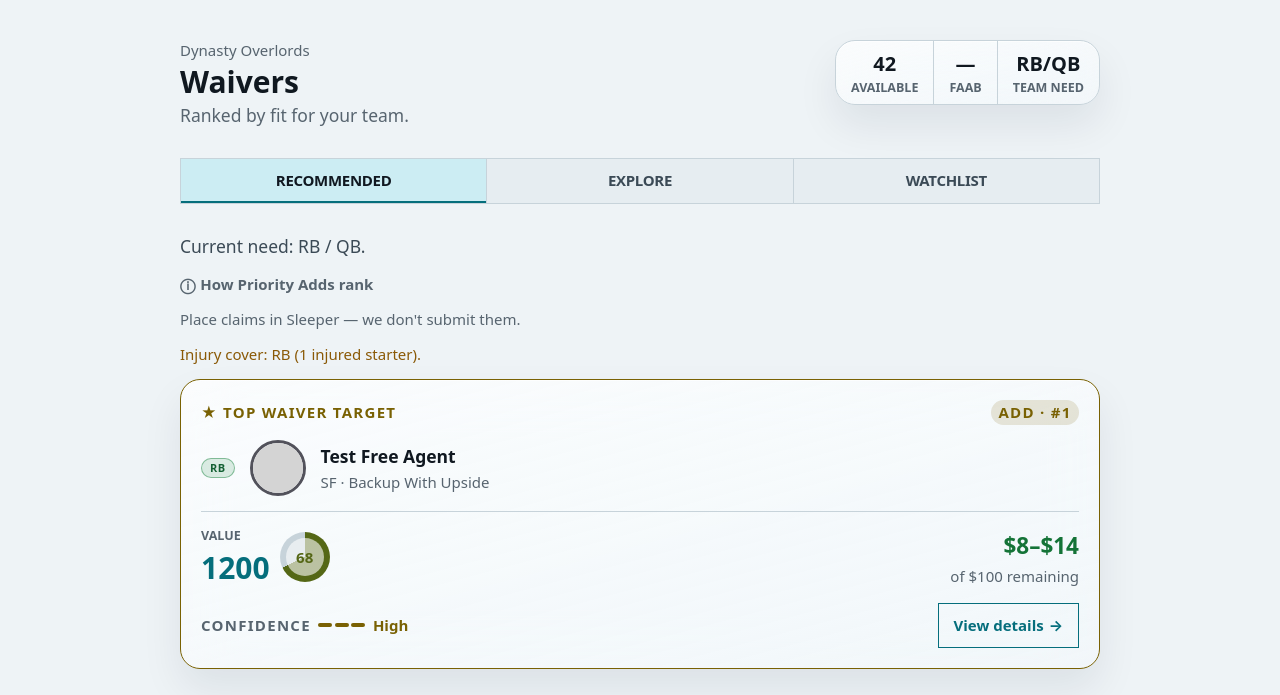
Test: WaiversContent › preserves the exact waiver-claim disclosure
Expected: the text "Place claims in Sleeper — we don't submit them." is shown, [180, 309, 520, 329]
Click the button "ⓘ How Priority Adds rank" at (277, 284), box [180, 274, 373, 294]
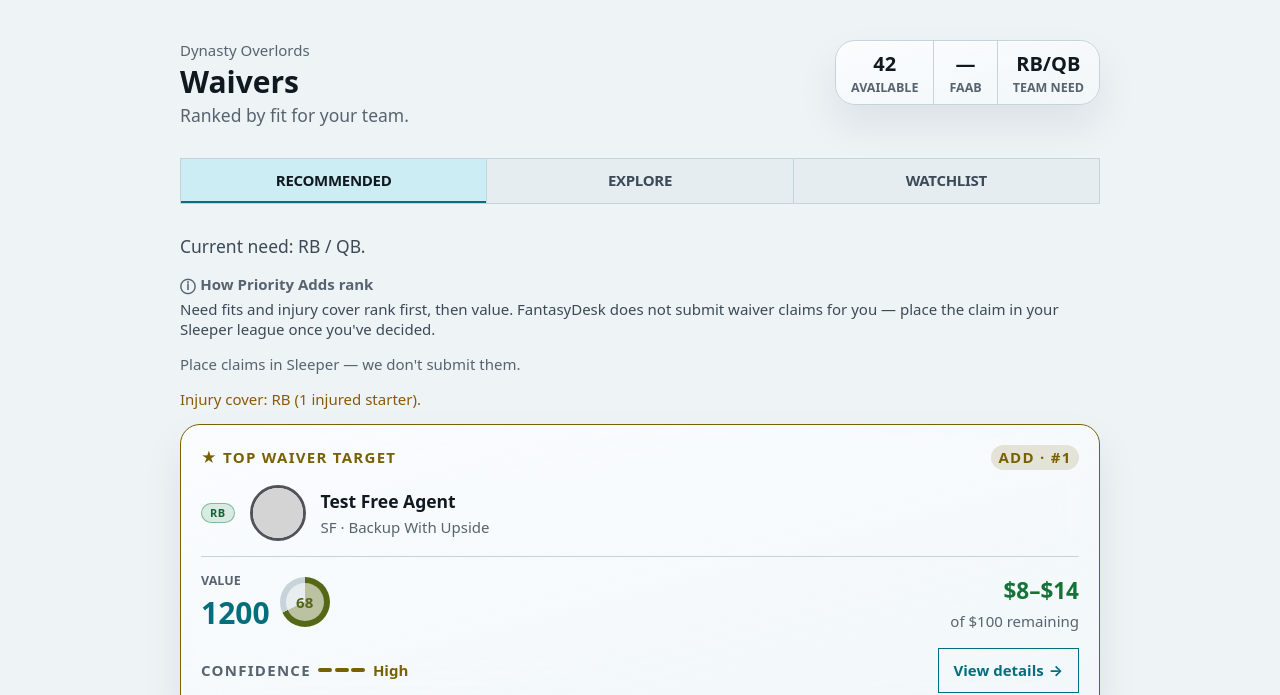
Expected: the text "FantasyDesk does not submit waiver claims for you — place the claim in your Sleeper league once you've decided." is shown, [180, 299, 1059, 339]
